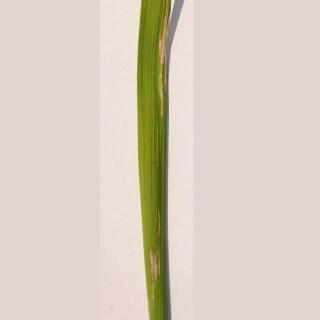Hawar-Daun: (118, 0, 190, 292)
